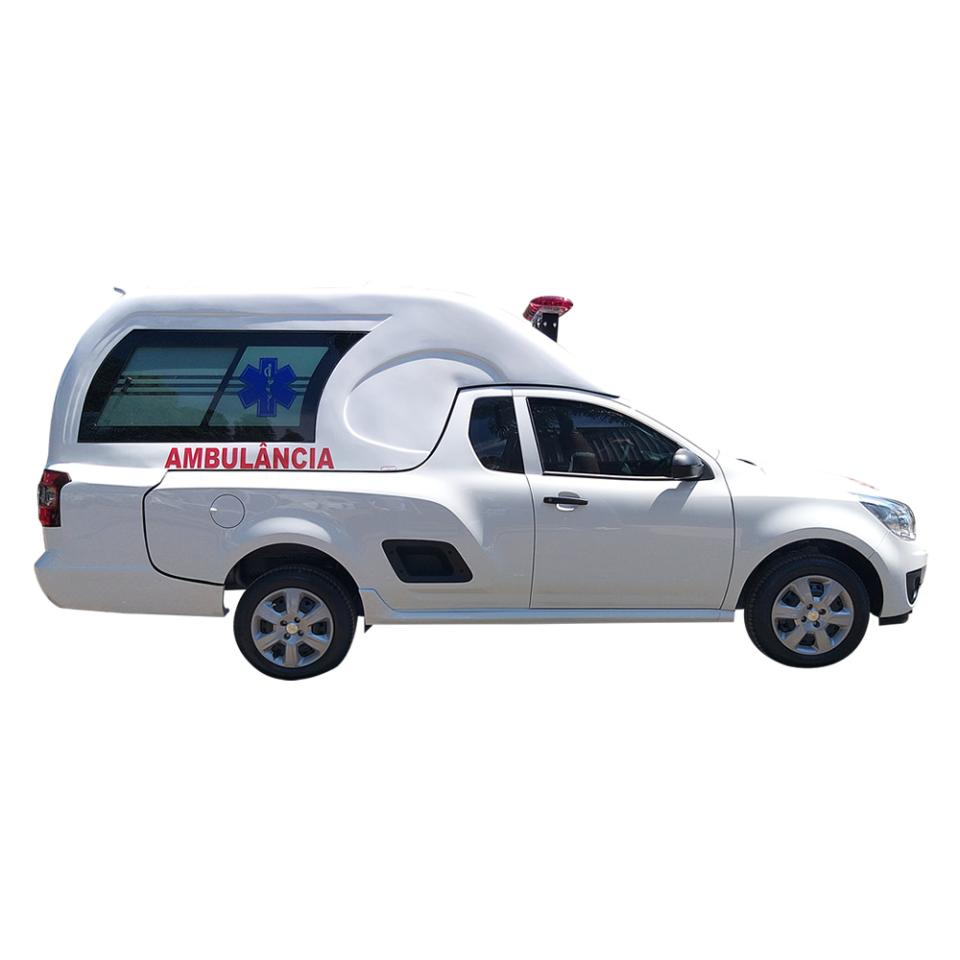bombeiro: (29, 281, 929, 683)
